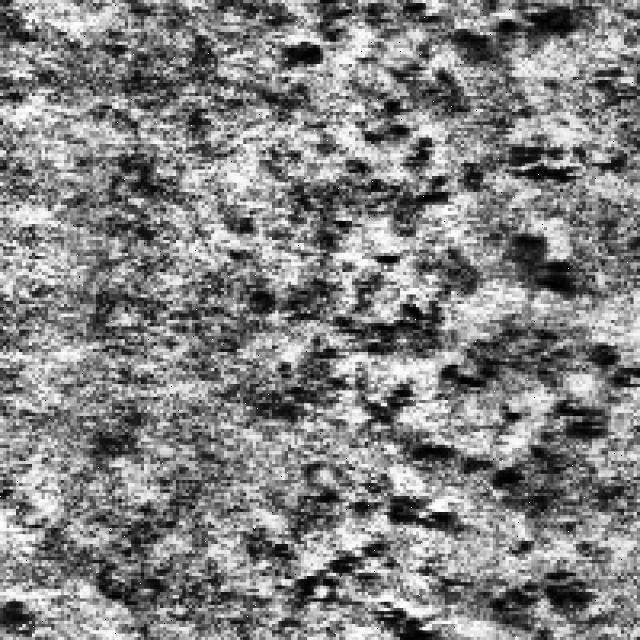Crazing: (321, 217, 634, 634), (365, 0, 596, 246)
